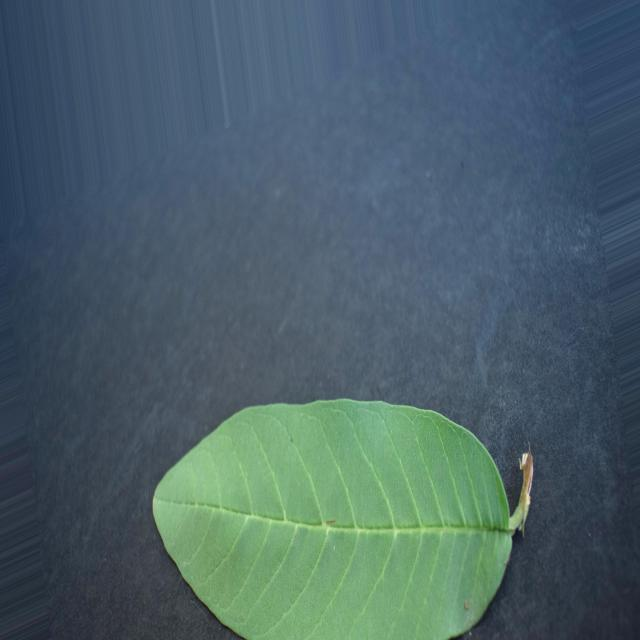Healthy: (152, 399, 532, 639)
